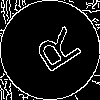R: (25, 25, 83, 80)
